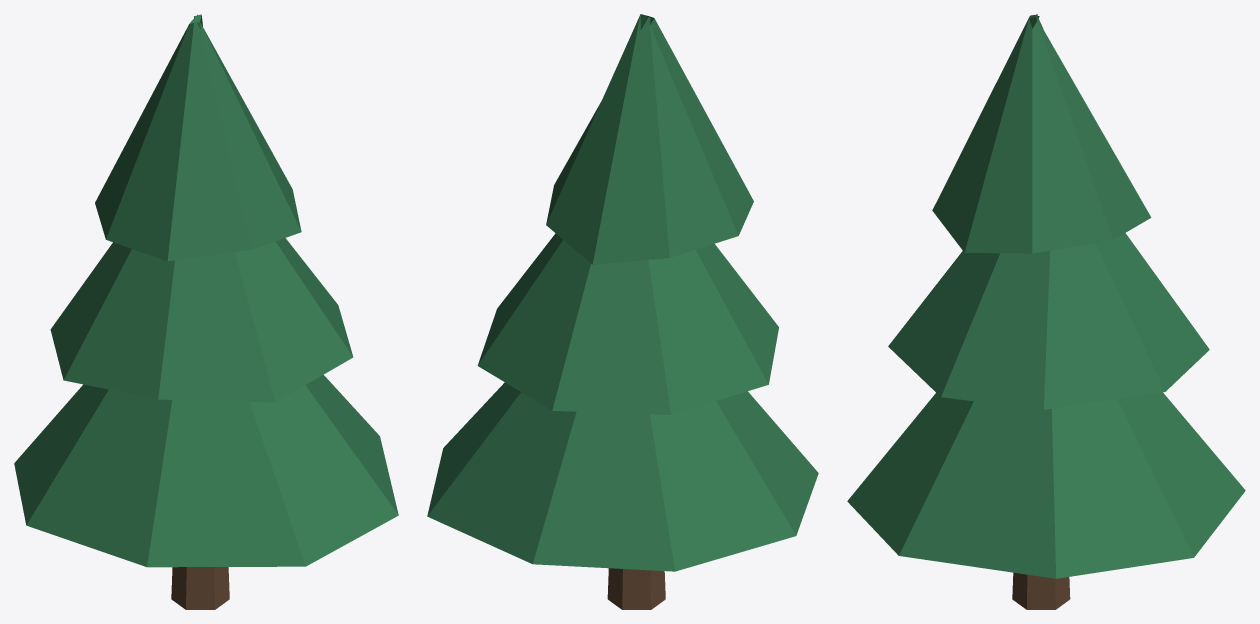
The model's file is TreePine.fbx.
3 views of the same model, side by side, from view 1: azimuth 30°, elevation 25°; view 2: azimuth 150°, elevation 25°; view 3: azimuth 270°, elevation 25° (orthographic).
Visible parts, largest first — view 1: TreePine_Leaves, TreePine_Trunk; view 2: TreePine_Leaves, TreePine_Trunk; view 3: TreePine_Leaves, TreePine_Trunk.
Boxes of the visible parts, box(x1,y1,x2,y2) form: TreePine_Leaves: box(14, 14, 398, 567); TreePine_Trunk: box(171, 567, 229, 609); TreePine_Leaves: box(427, 14, 818, 571); TreePine_Trunk: box(607, 568, 665, 609); TreePine_Leaves: box(847, 14, 1245, 578); TreePine_Trunk: box(1012, 572, 1070, 609).
Bounding box in the file's own units: 13.99 × 22.15 × 13.76.
